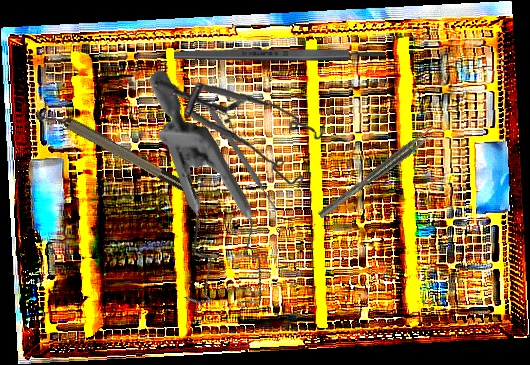Fixation Ring: (33, 96, 191, 202)
Pusher: (206, 106, 281, 214)
Scalpel Handle: (174, 48, 385, 61)
Speculum: (56, 67, 334, 337), (153, 74, 329, 193)
Tissue Forceps: (315, 124, 439, 220)
